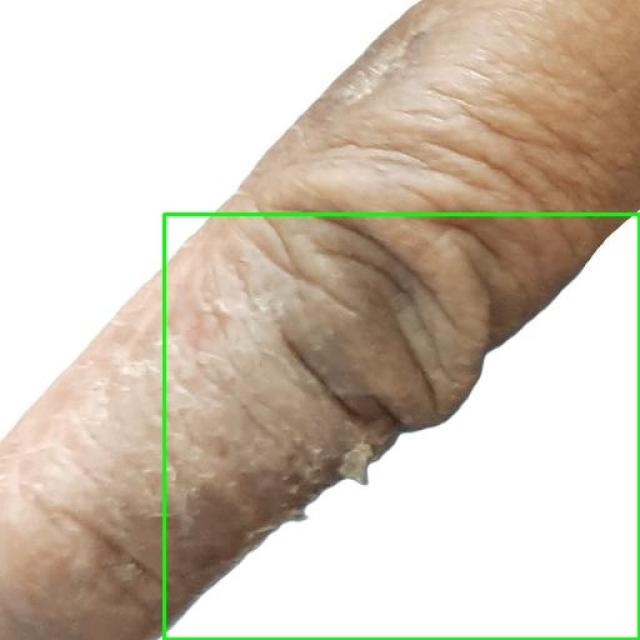Eczema: (164, 214, 639, 639)
